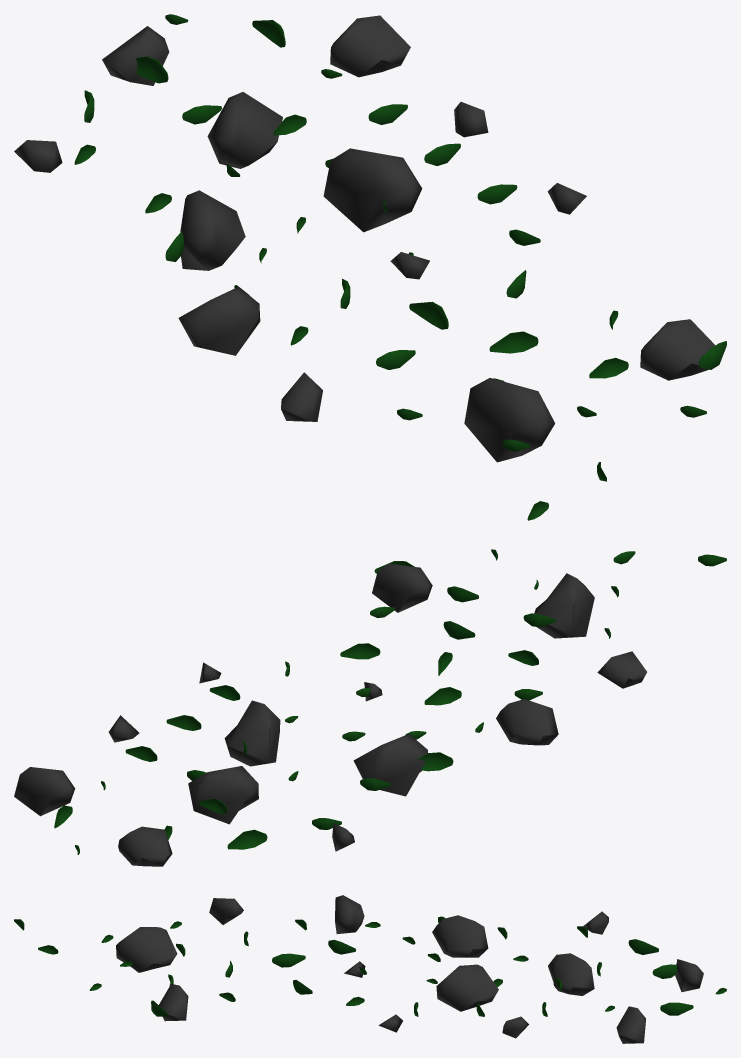
The model's file is Stone_leaf_scatter.fbx.
The picture shows the model from 3 angles, top to bottom: view 1: azimuth 30°, elevation 25°; view 2: azimuth 150°, elevation 25°; view 3: azimuth 270°, elevation 25°; orthographic projection. The views are drawn at different scales.
Visible parts, largest first — view 1: Stone_leaf_scatter; view 2: Stone_leaf_scatter; view 3: Stone_leaf_scatter.
Part boxes in pixels (x1=…): Stone_leaf_scatter: x1=14, y1=14, x2=726, y2=520; Stone_leaf_scatter: x1=14, y1=549, x2=726, y2=866; Stone_leaf_scatter: x1=14, y1=895, x2=726, y2=1043.
Size of the model in its own units: 3.2 by 0.4824 by 7.17.
